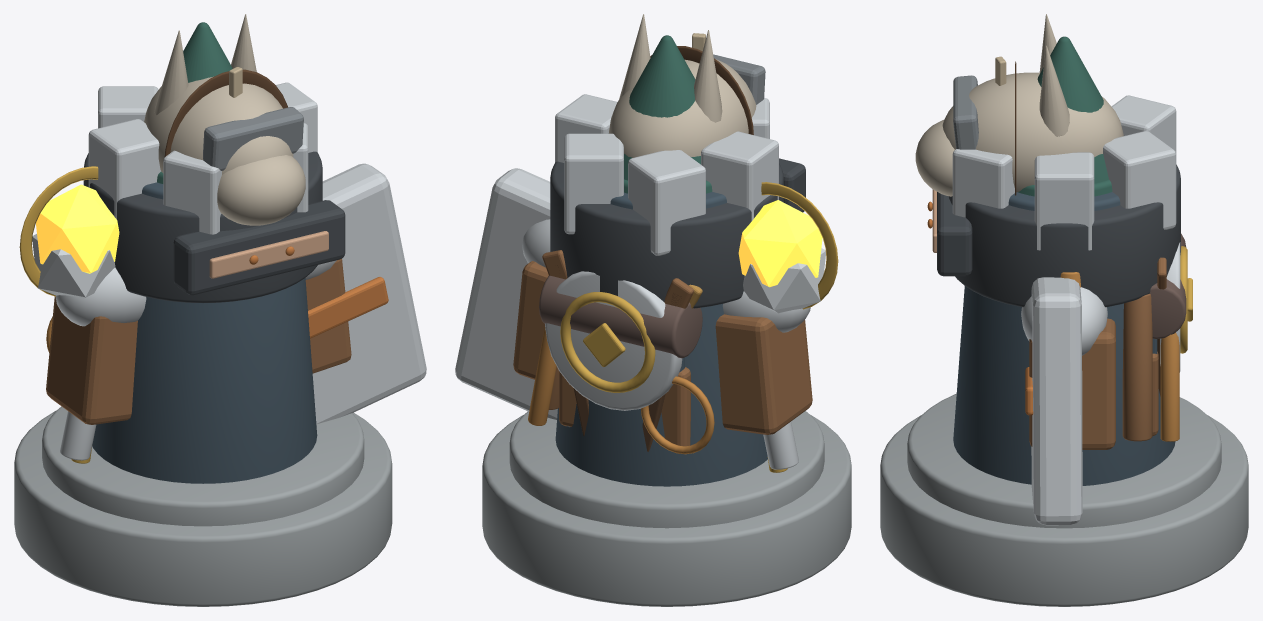
File: chronicles-tactics-party.glb
The picture shows the model from 3 angles, left to right: view 1: azimuth 30°, elevation 25°; view 2: azimuth 150°, elevation 25°; view 3: azimuth 270°, elevation 25°; orthographic projection. The views are drawn at different scales.
Parts seen in each view (by area): view 1: rook__plinth, rook__body, rook__plinth_bevel, rook__shield, rook__helm, knight__pack_l, rook__visor, knight__head, bishop__lantern, knight__muzzle, rook__crenel_3, rook__crenel_4 (+15 smaller); view 2: rook__plinth, rook__plinth_bevel, rook__helm, rook__body, rook__shield, knight__pack_l, rook__backplate, knight__head, rook__crenel_2, knight__bedroll, bishop__lantern, rook__crenel_3 (+22 smaller); view 3: rook__plinth, rook__body, rook__helm, rook__plinth_bevel, rook__shield, knight__head, rook__crenel_1, rook__crenel_0, bishop__scroll_case, knight__pack_r, rook__crenel_5, bishop__mitre (+11 smaller).
Boxes of the visible parts, x1=… form: rook__plinth: x1=14, y1=410, x2=392, y2=606; rook__body: x1=92, y1=182, x2=317, y2=483; rook__plinth_bevel: x1=42, y1=406, x2=364, y2=526; rook__shield: x1=312, y1=163, x2=426, y2=424; rook__helm: x1=83, y1=151, x2=322, y2=303; knight__pack_l: x1=46, y1=296, x2=137, y2=424; rook__visor: x1=173, y1=200, x2=345, y2=295; knight__head: x1=144, y1=76, x2=293, y2=174; bishop__lantern: x1=36, y1=184, x2=119, y2=273; knight__muzzle: x1=217, y1=155, x2=305, y2=225; rook__crenel_3: x1=88, y1=119, x2=160, y2=219; rook__crenel_4: x1=163, y1=150, x2=221, y2=234; rook__plinth: x1=482, y1=415, x2=851, y2=606; rook__plinth_bevel: x1=509, y1=411, x2=824, y2=528; rook__helm: x1=550, y1=161, x2=783, y2=308; rook__body: x1=555, y1=192, x2=767, y2=486; rook__shield: x1=455, y1=168, x2=557, y2=419; knight__pack_l: x1=715, y1=314, x2=812, y2=434; rook__backplate: x1=545, y1=271, x2=682, y2=410; knight__head: x1=609, y1=59, x2=756, y2=157; rook__crenel_2: x1=628, y1=150, x2=705, y2=255; knight__bedroll: x1=539, y1=275, x2=702, y2=358; bishop__lantern: x1=738, y1=200, x2=822, y2=287; rook__crenel_3: x1=701, y1=131, x2=778, y2=220; rook__plinth: x1=880, y1=415, x2=1248, y2=606; rook__body: x1=953, y1=192, x2=1175, y2=485; rook__helm: x1=948, y1=164, x2=1180, y2=307; rook__plinth_bevel: x1=907, y1=393, x2=1221, y2=528; rook__shield: x1=1031, y1=277, x2=1082, y2=525; knight__head: x1=942, y1=72, x2=1123, y2=192; rook__crenel_1: x1=1103, y1=131, x2=1176, y2=229; rook__crenel_0: x1=1034, y1=152, x2=1094, y2=250; bishop__scroll_case: x1=1122, y1=294, x2=1152, y2=441; knight__pack_r: x1=1029, y1=318, x2=1115, y2=449; rook__crenel_5: x1=952, y1=149, x2=1014, y2=217; bishop__mitre: x1=1037, y1=36, x2=1108, y2=183.
Size of the model in its own units: 1.63 by 2.04 by 1.36.
